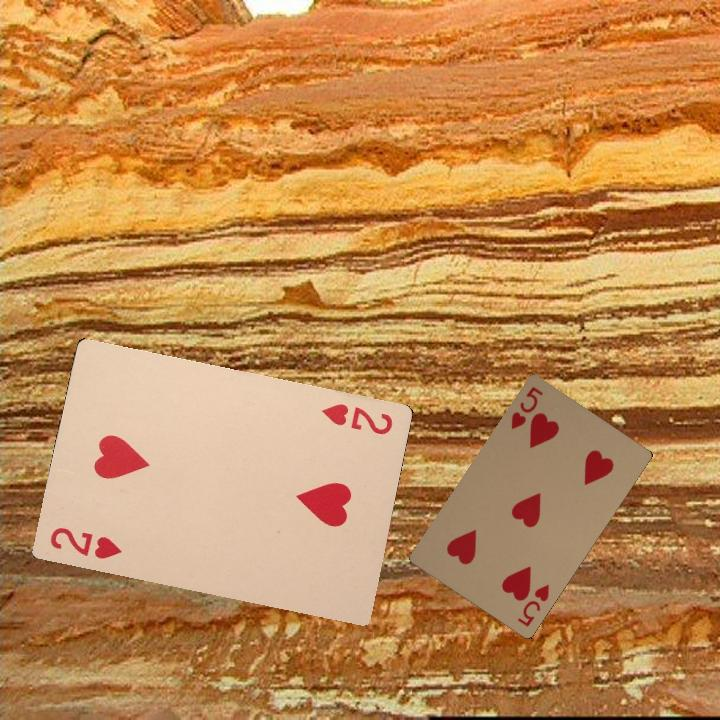2h: (46, 523, 125, 562), (318, 399, 395, 438)
5h: (507, 382, 546, 432), (514, 580, 552, 629)
